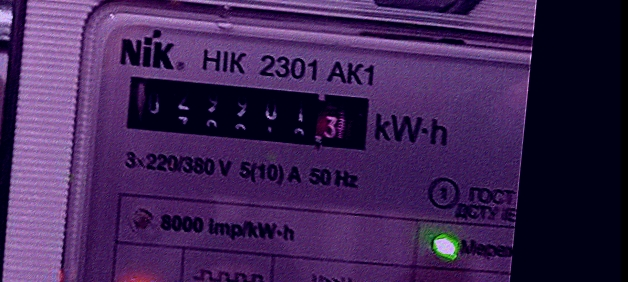0: (141, 86, 162, 115), (260, 92, 279, 122)
1: (291, 94, 307, 123)
2: (172, 83, 192, 112)
3: (319, 111, 338, 139)
9: (202, 86, 220, 114), (233, 90, 248, 118)
screen: (114, 64, 380, 160)
